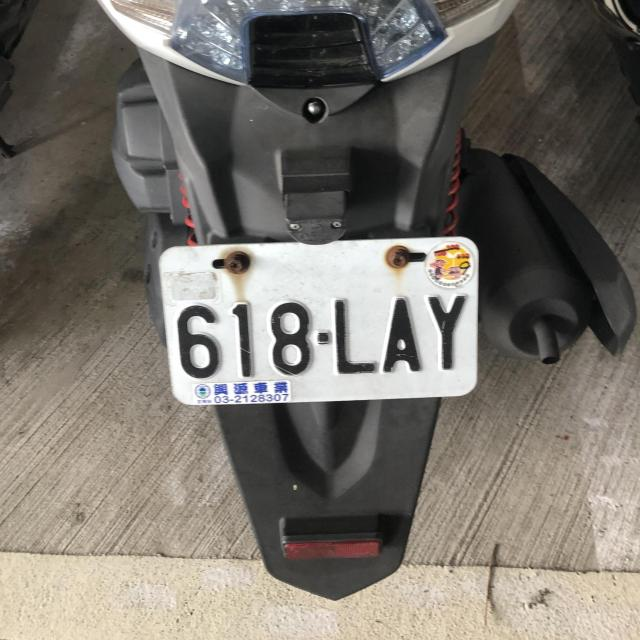W: (148, 223, 488, 411)
